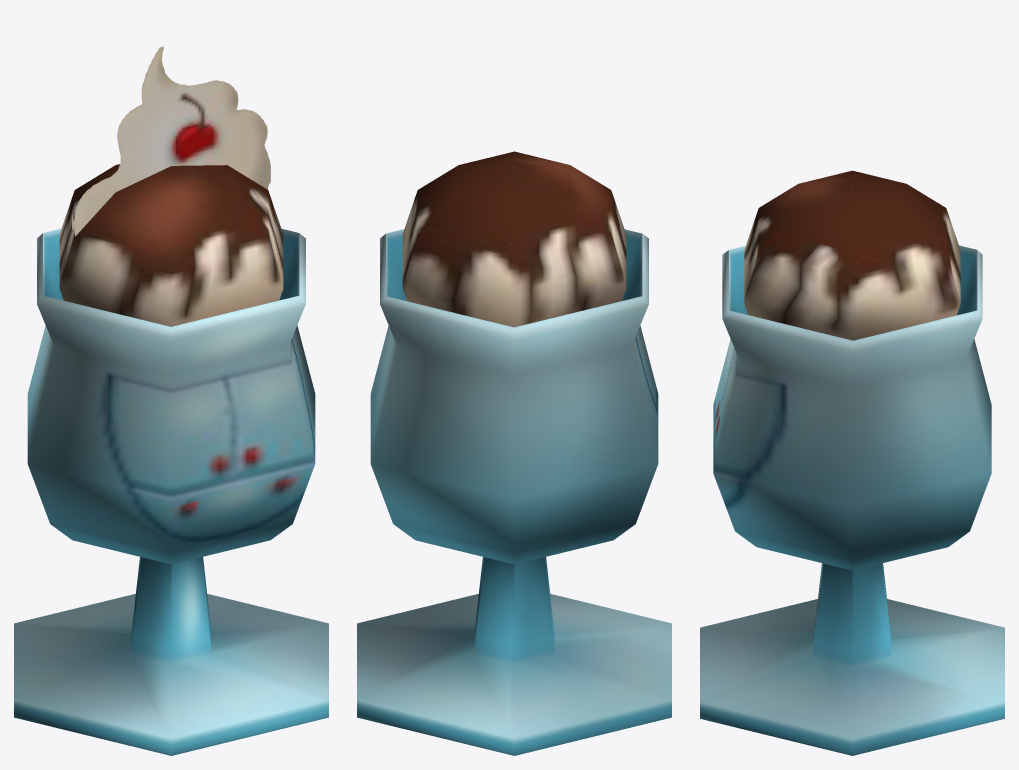
File: icecreamChest.glb
3 views of the same model, side by side, from view 1: azimuth 30°, elevation 25°; view 2: azimuth 150°, elevation 25°; view 3: azimuth 270°, elevation 25° (orthographic). The views are drawn at different scales.
Visible parts, largest first — view 1: chest, icecream, whipcream__billboard; view 2: chest, icecream; view 3: chest, icecream.
Part boxes in pixels (left/top/right/bottom): chest: left=14, top=228, right=328, bottom=755; icecream: left=59, top=164, right=283, bottom=326; whipcream__billboard: left=72, top=46, right=270, bottom=236; chest: left=357, top=229, right=671, bottom=755; icecream: left=402, top=151, right=626, bottom=327; chest: left=700, top=245, right=1004, bottom=755; icecream: left=744, top=170, right=960, bottom=340.
Size of the model in its own units: 4.07 by 7.91 by 3.52.
Materials: 3 (3 with a texture image).
